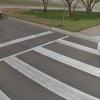Crosswalk: (7, 34, 100, 100)
